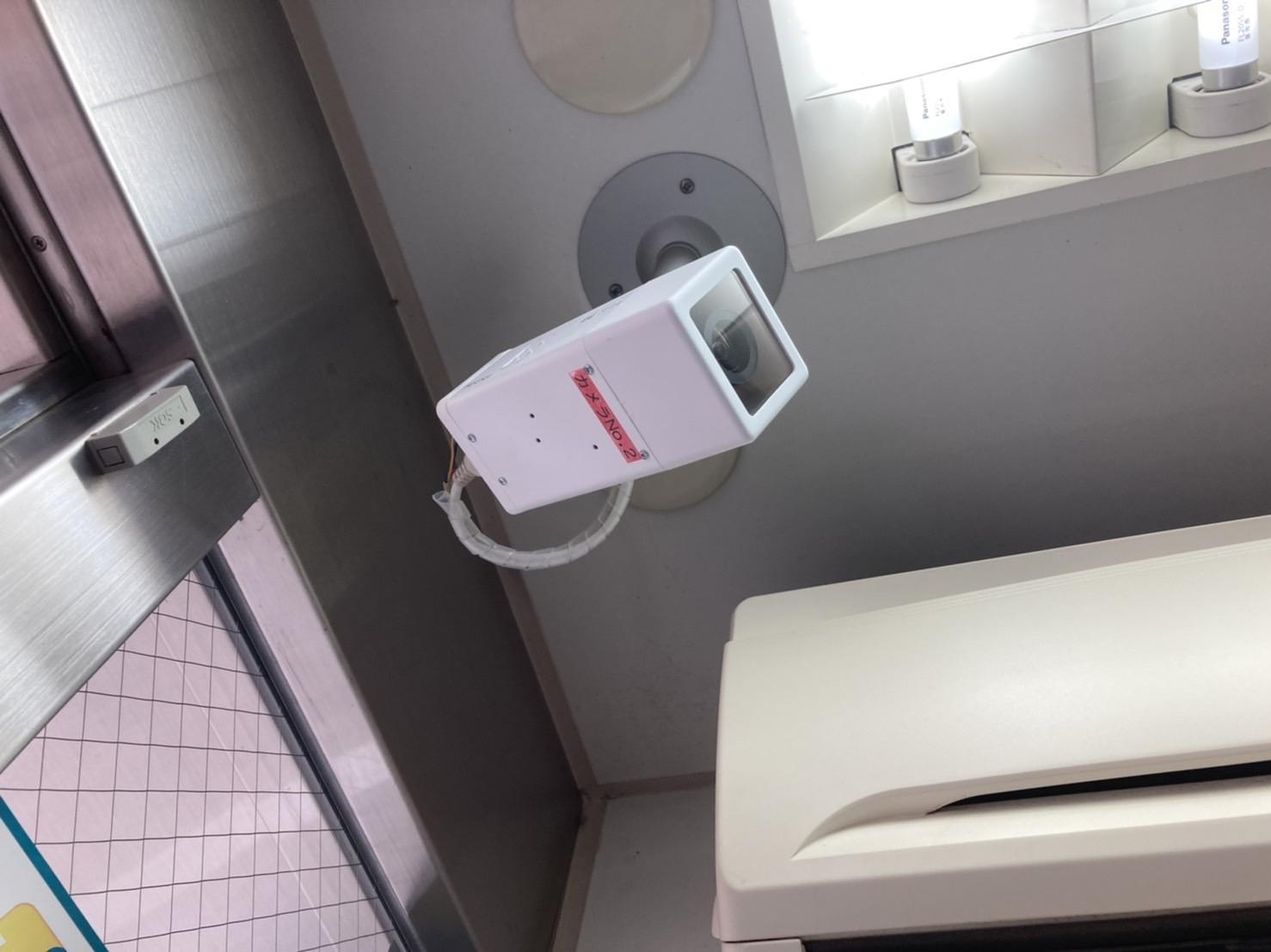tutu: (437, 246, 832, 516)
